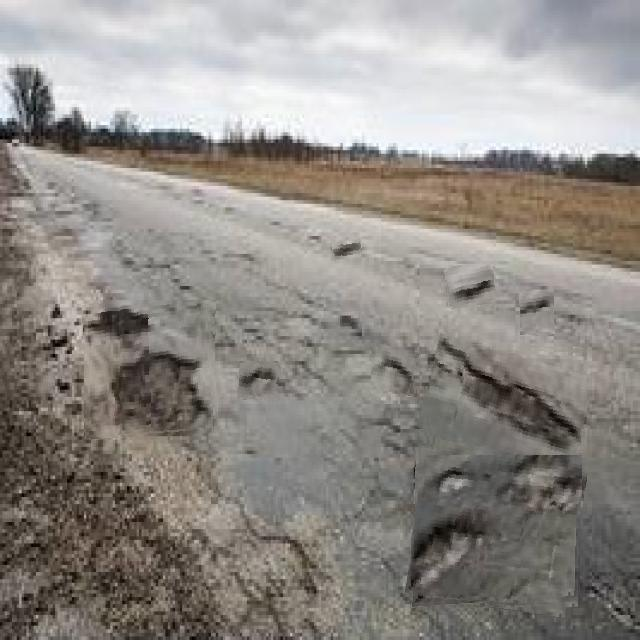Pothole: (411, 444, 583, 613), (422, 342, 587, 455), (84, 300, 216, 438), (371, 346, 419, 394), (445, 264, 495, 308), (239, 361, 280, 402), (520, 291, 554, 336), (331, 235, 362, 262), (340, 300, 360, 329)
